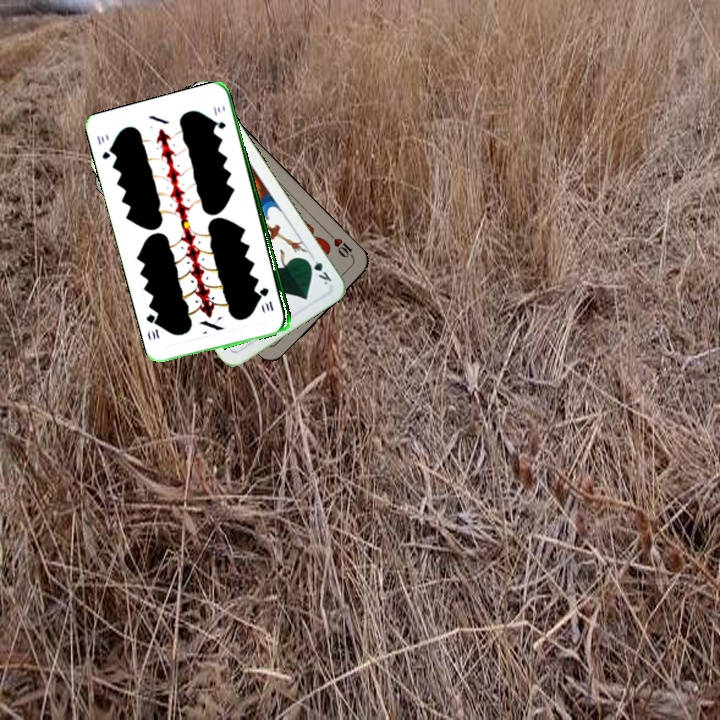G10: (92, 132, 116, 162), (258, 283, 276, 313)
GK: (302, 251, 334, 287)
H10: (325, 230, 357, 263)
